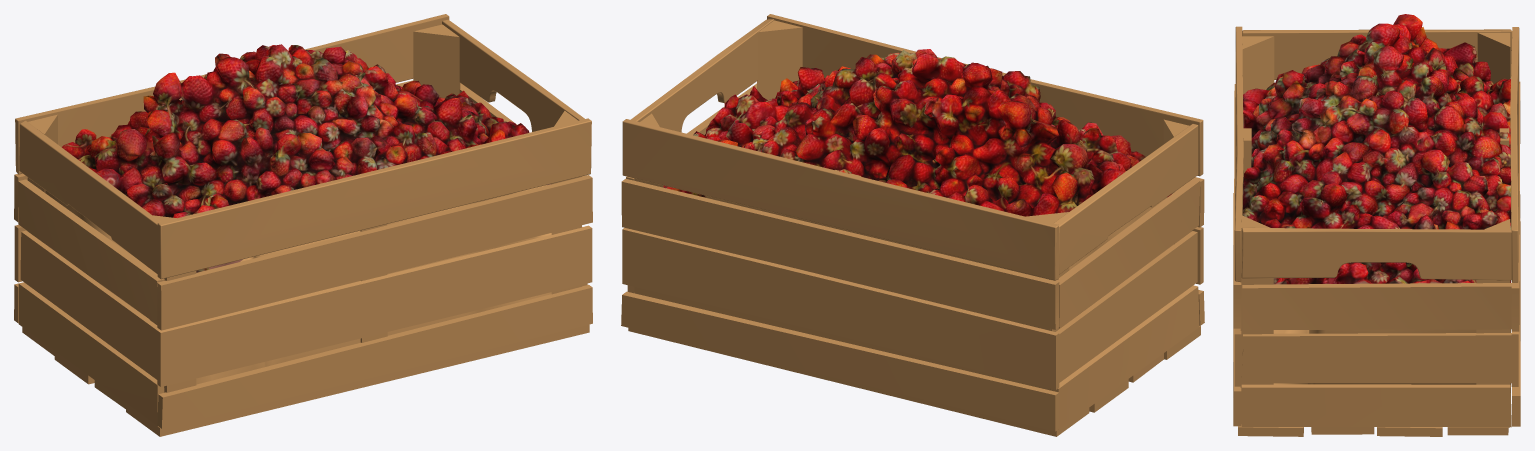
The model's file is caja_3.dae.
The picture shows the model from 3 angles, left to right: view 1: azimuth 30°, elevation 25°; view 2: azimuth 150°, elevation 25°; view 3: azimuth 270°, elevation 25°; orthographic projection. The views are drawn at different scales.
Visible parts, largest first — view 1: Box of strawberries.001, Strawberry.002; view 2: Box of strawberries.001, Strawberry.002; view 3: Box of strawberries.001, Strawberry.002.
Boxes of the visible parts, box(x1,y1,x2,y2) form: Box of strawberries.001: box(14, 14, 592, 436); Strawberry.002: box(45, 44, 551, 384); Box of strawberries.001: box(621, 14, 1204, 436); Strawberry.002: box(634, 49, 1173, 390); Box of strawberries.001: box(1233, 26, 1520, 436); Strawberry.002: box(1243, 14, 1510, 392).
Bounding box in the file's own units: 0.5016 × 0.2978 × 0.3182.
Materials: 3 (1 with a texture image).
